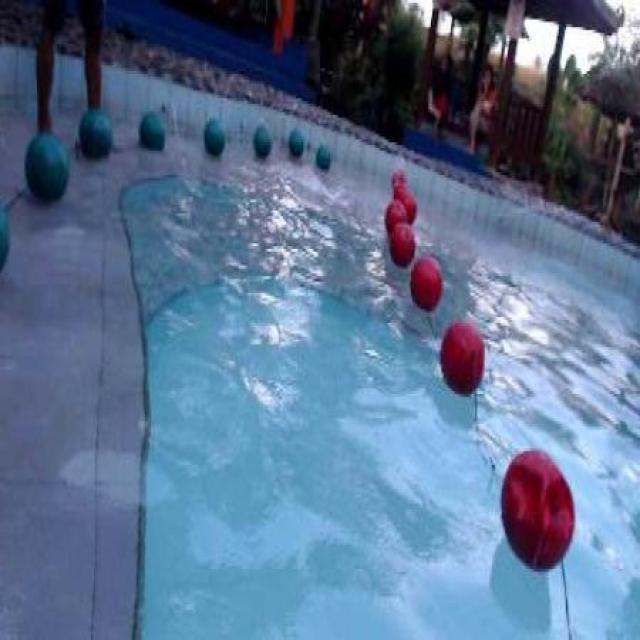buoy: (500, 452, 574, 570), (439, 320, 484, 397), (23, 132, 69, 202), (76, 105, 112, 158), (410, 254, 442, 308), (388, 221, 416, 265), (136, 108, 166, 149), (385, 197, 406, 241), (201, 117, 224, 156), (396, 187, 416, 223), (252, 124, 272, 160), (286, 127, 304, 157), (315, 145, 331, 172)
